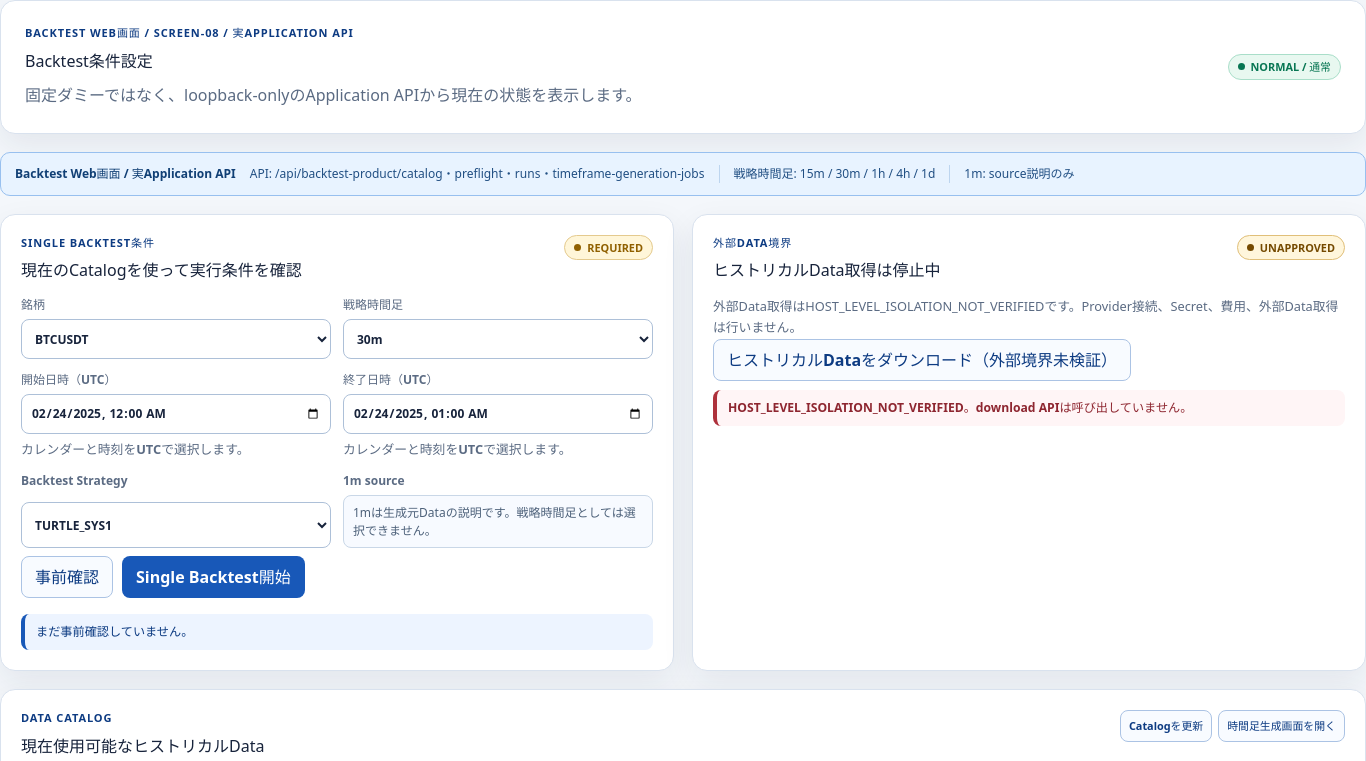
Scenario: BacktestProduct Web Product UI › serializes BacktestProduct condition datetime pickers as UTC and blocks a reversed range
Click the button "事前確認".
click(67, 577)  # box x1=21 y1=556 x2=113 y2=598
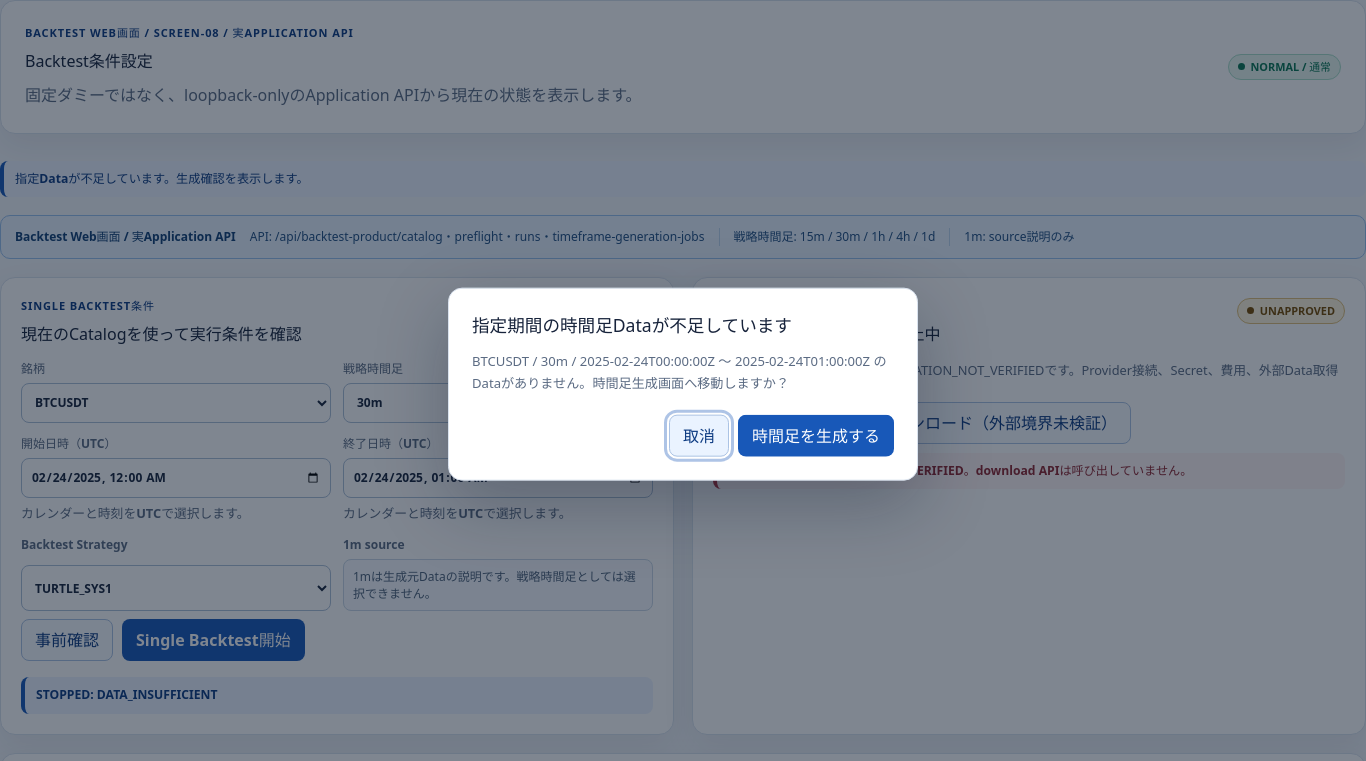
Click the button "取消".
click(699, 435)  # box x1=669 y1=414 x2=729 y2=456
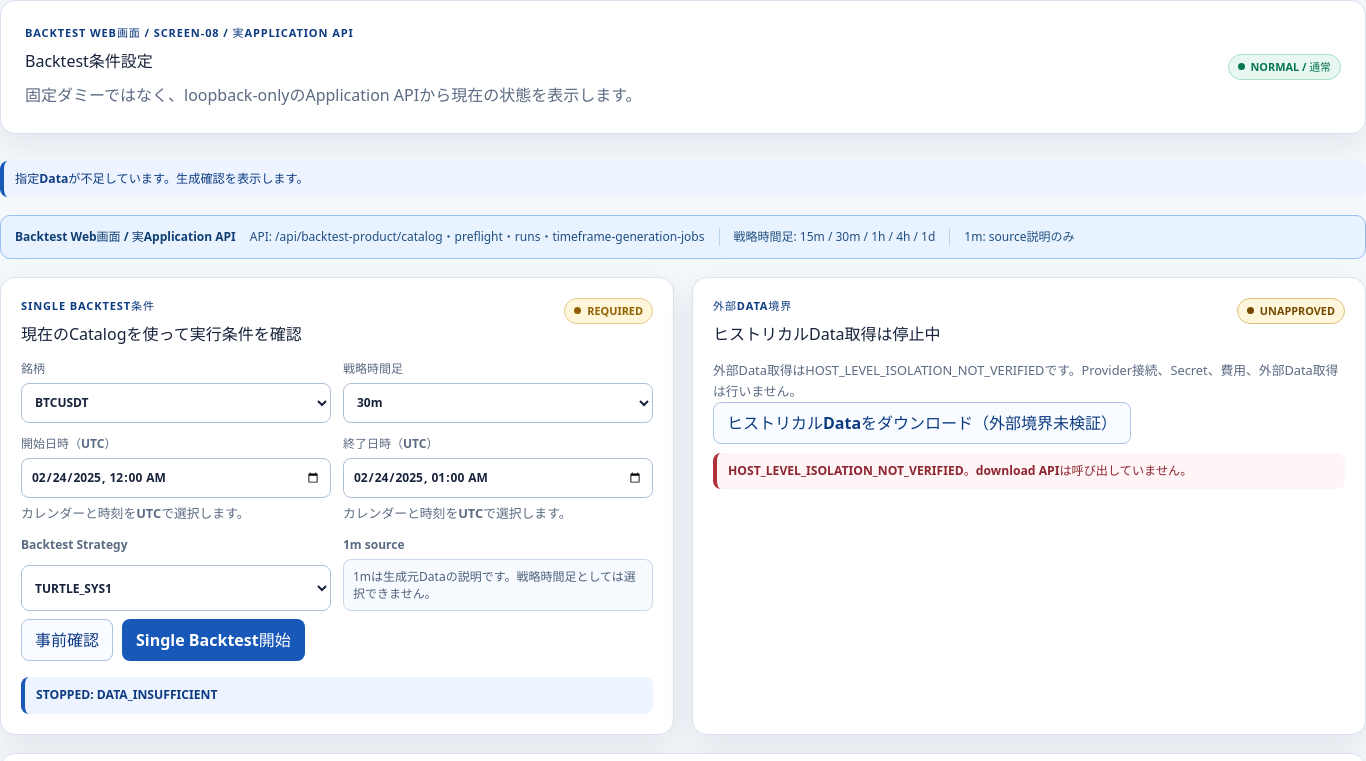
Replace the text in the field labelled "開始日時（UTC）" with "2025-02-24T02:00" at (176, 478), box x1=21 y1=458 x2=331 y2=498
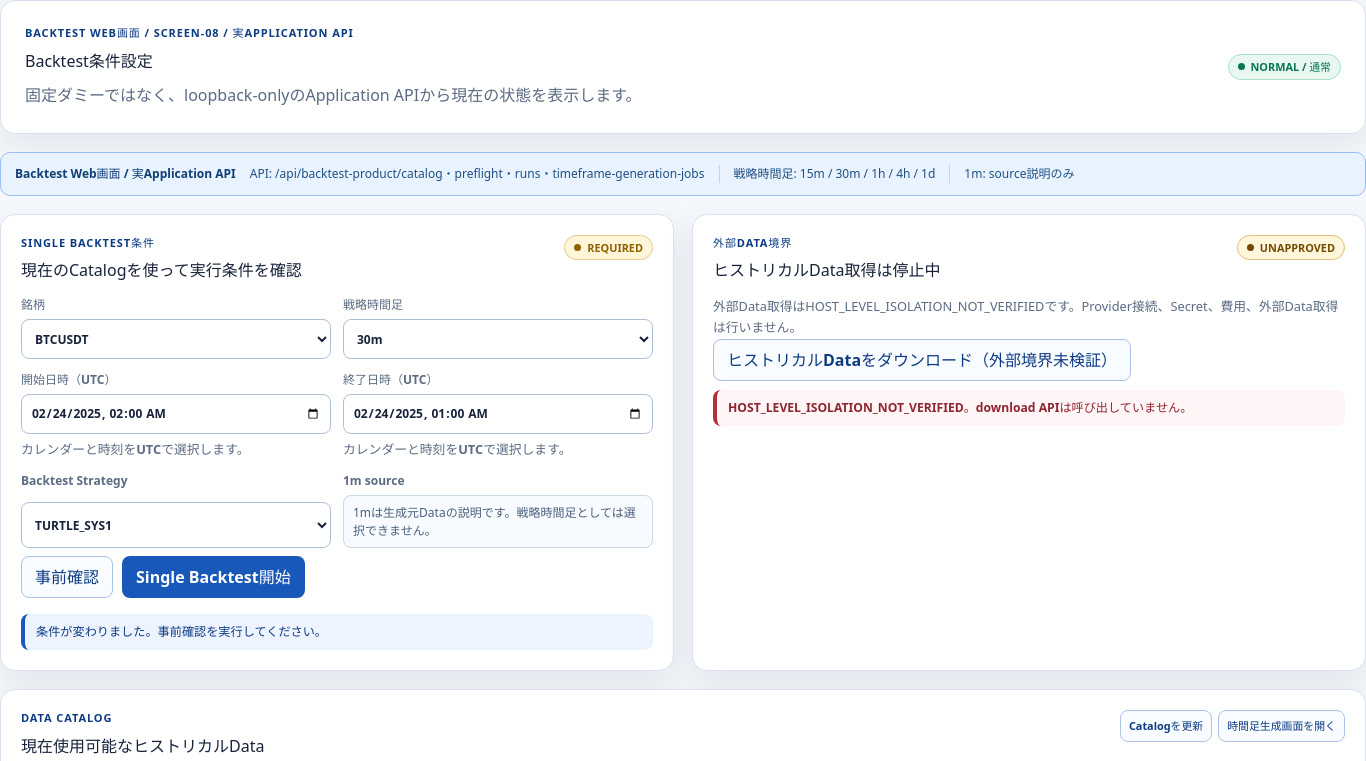
Click the button "事前確認".
click(67, 577)  # box x1=21 y1=556 x2=113 y2=598
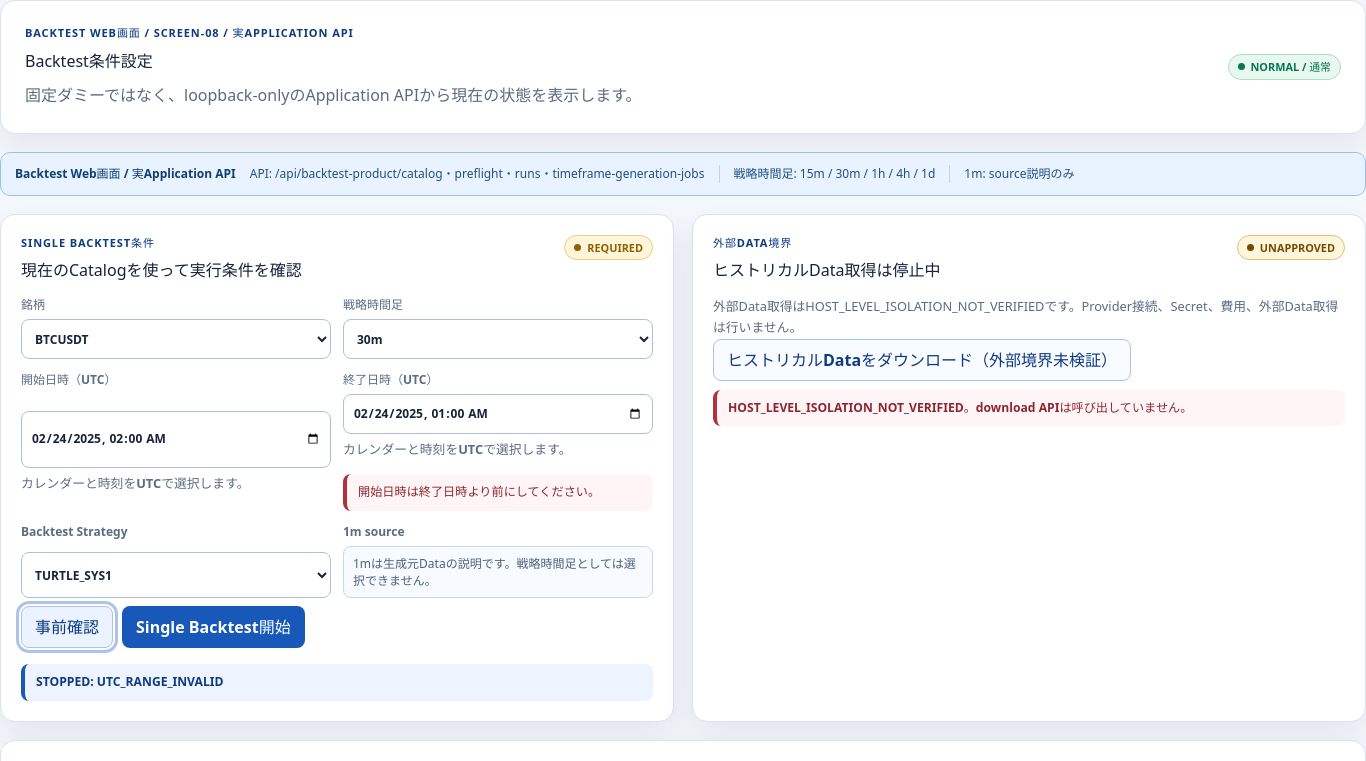
expect the text "開始日時は終了日時より前にしてください。" is shown: met, box x1=343 y1=474 x2=653 y2=511
